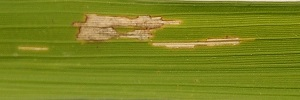RiceBacterialBlight: (69, 9, 258, 66)
